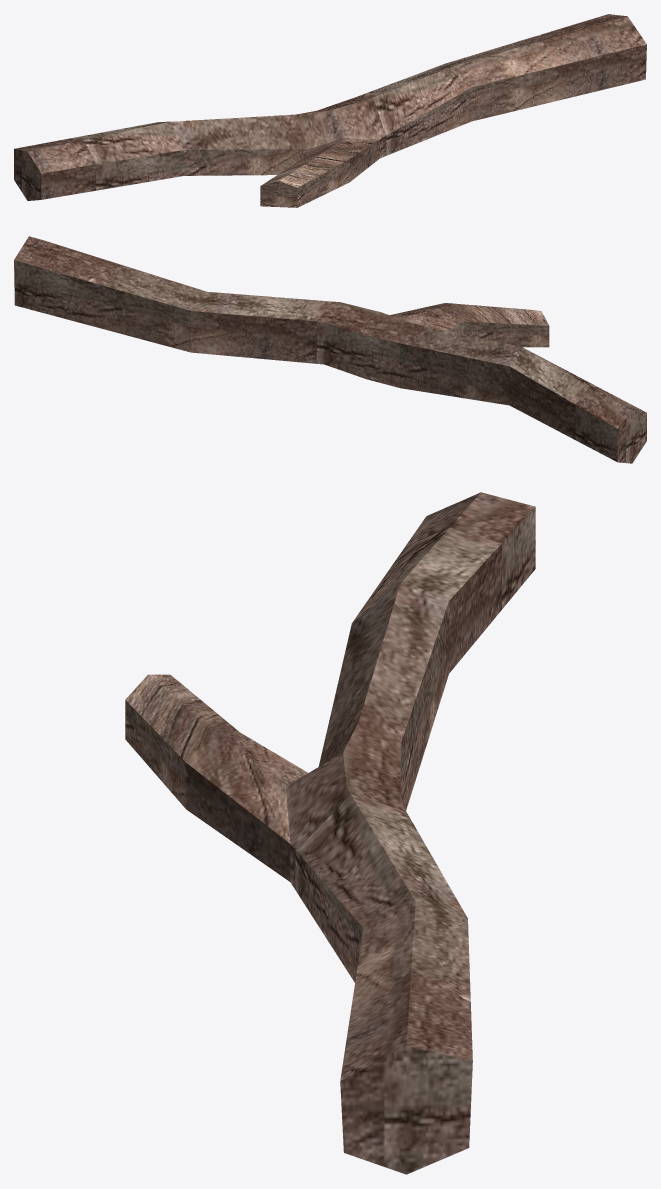
Rendered from mutuk2.fbx.
3 views of the same model, one above another, from view 1: azimuth 30°, elevation 25°; view 2: azimuth 150°, elevation 25°; view 3: azimuth 270°, elevation 25° (orthographic). The views are drawn at different scales.
Visible parts, largest first — view 1: Cube; view 2: Cube; view 3: Cube.
Boxes of the visible parts, <box> form: Cube: <box>14,14,646,207</box>; Cube: <box>14,236,646,463</box>; Cube: <box>125,492,535,1174</box>.
Size of the model in its own units: 279 by 32.85 by 84.74.
